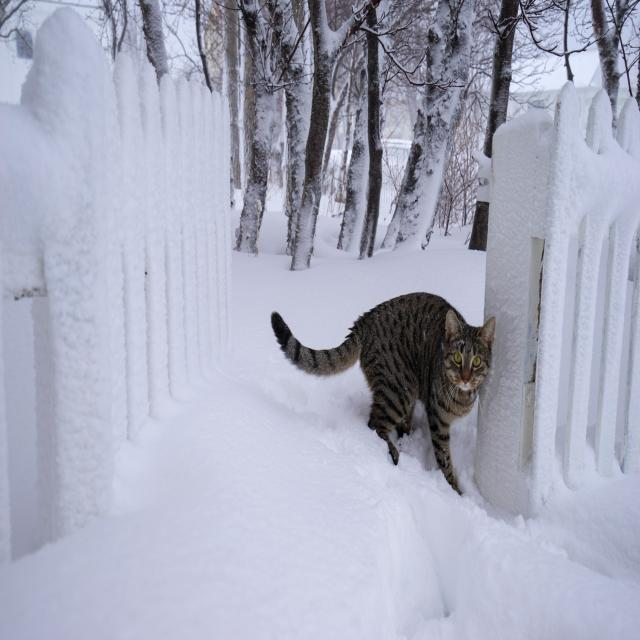cat: (271, 292, 495, 493)
